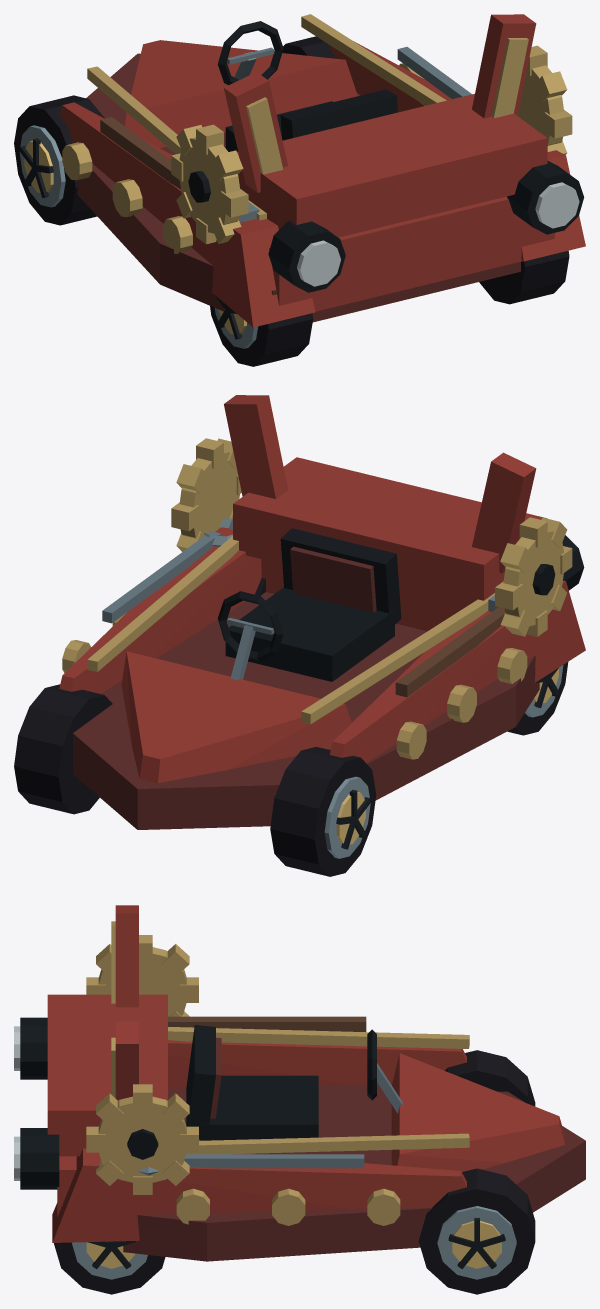
The model's file is kart.glb.
3 renders of one model, top to bottom at view 1: azimuth 30°, elevation 25°; view 2: azimuth 150°, elevation 25°; view 3: azimuth 270°, elevation 25°, orthographic. The views are drawn at different scales.
Parts seen in each view (by area): view 1: identity-ship-ship-pointed-bow-and-raised-stern, identity-ship-motif-gears, identity-ship-motif-ears, identity-ship-motif-thrusters, wheel-front-left, identity-ship-driver-cockpit, wheel-rear-left, identity-ship-motif-tools, wheel-rear-right, wheel-front-right; view 2: identity-ship-ship-pointed-bow-and-raised-stern, identity-ship-driver-cockpit, identity-ship-motif-gears, wheel-front-left, identity-ship-motif-ears, wheel-front-right, identity-ship-motif-tools, wheel-rear-left, identity-ship-motif-thrusters; view 3: identity-ship-ship-pointed-bow-and-raised-stern, identity-ship-motif-gears, identity-ship-driver-cockpit, wheel-front-right, identity-ship-motif-tools, identity-ship-motif-ears, identity-ship-motif-thrusters, wheel-rear-right, wheel-front-left.
Part boxes in pixels (x1,y1,x2,y2): identity-ship-ship-pointed-bow-and-raised-stern: (59,14,585,327); identity-ship-motif-gears: (171,45,572,244); identity-ship-motif-ears: (224,14,536,192); identity-ship-motif-thrusters: (268,161,584,292); wheel-front-left: (14,95,104,225); identity-ship-driver-cockpit: (217,21,397,151); wheel-rear-left: (210,295,313,366); identity-ship-motif-tools: (100,46,471,222); wheel-rear-right: (479,250,569,304); wheel-front-right: (282,36,336,58); identity-ship-ship-pointed-bow-and-raised-stern: (59,457,585,829); identity-ship-driver-cockpit: (217,528,401,681); identity-ship-motif-gears: (171,438,572,636); wheel-front-left: (270,747,376,876); identity-ship-motif-ears: (224,395,536,573); wheel-front-right: (14,684,112,814); identity-ship-motif-tools: (102,518,504,697); wheel-rear-left: (507,662,568,735); identity-ship-motif-thrusters: (562,535,584,590); identity-ship-ship-pointed-bow-and-raised-stern: (47,994,585,1261); identity-ship-motif-gears: (86,935,198,1194); identity-ship-driver-cockpit: (186,1025,402,1140); wheel-front-right: (418,1168,535,1294); identity-ship-motif-tools: (137,1016,366,1175); identity-ship-motif-ears: (111,905,138,1100); identity-ship-motif-thrusters: (14,1017,59,1189); wheel-rear-right: (54,1241,165,1294); wheel-front-left: (445,1050,535,1106).
Bounding box in the file's own units: 2 × 1.46 × 2.94.
